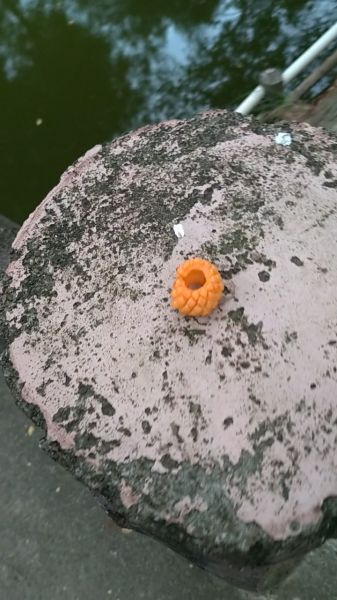eggs: (168, 257, 227, 316)
